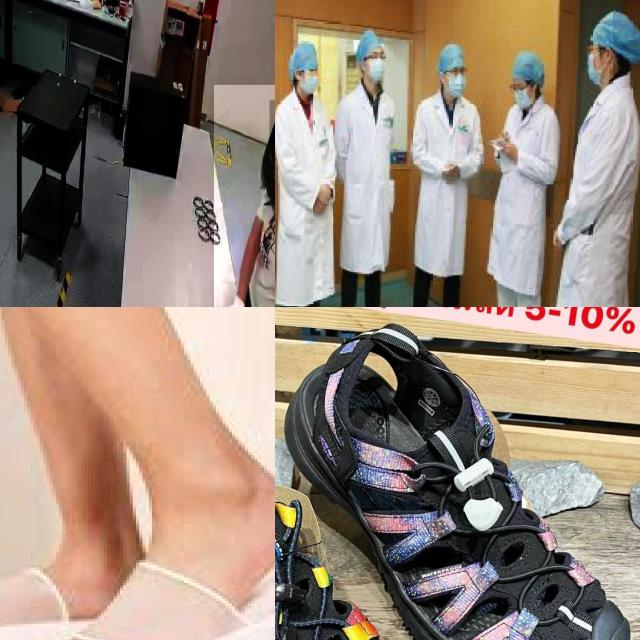Sandals: (275, 314, 640, 640), (275, 373, 490, 640), (32, 471, 275, 640)
face_mask: (582, 38, 608, 82), (361, 48, 389, 86), (442, 63, 471, 94), (298, 61, 324, 95), (511, 77, 534, 109)
hand_glove: (219, 284, 246, 307)
hand_noglove: (501, 140, 518, 163), (446, 160, 460, 184), (550, 231, 564, 252), (320, 183, 332, 205), (313, 197, 326, 215), (497, 129, 509, 146)
person: (558, 10, 640, 307), (413, 40, 482, 307), (275, 37, 339, 307), (343, 29, 403, 307), (492, 52, 552, 307), (214, 85, 275, 307)
